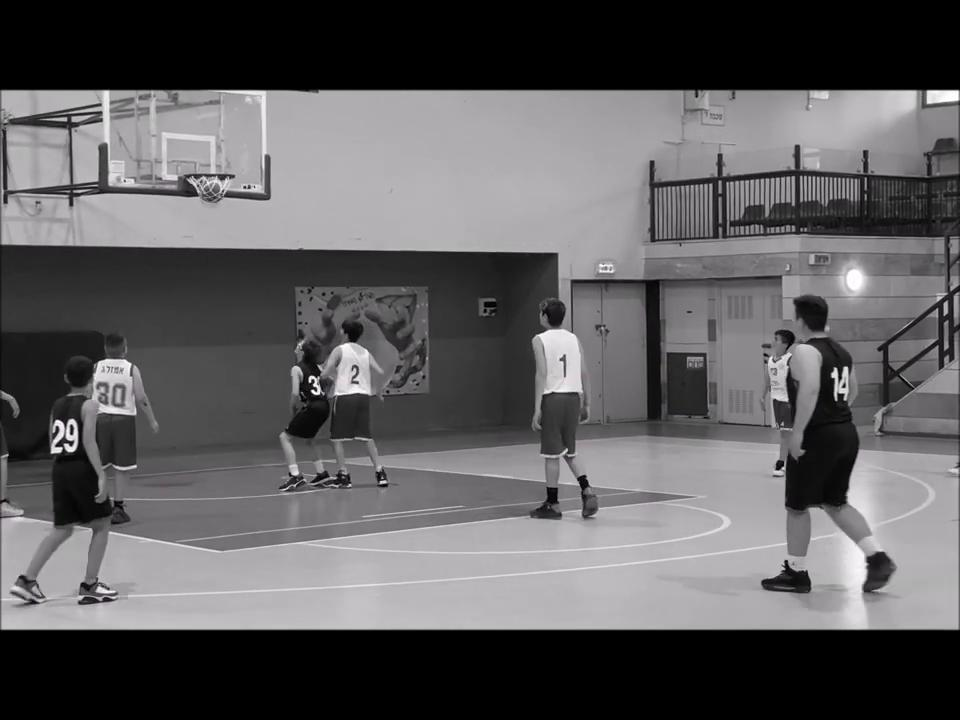ball: (201, 181, 225, 204)
human: (759, 292, 900, 597), (7, 354, 121, 607), (529, 294, 601, 523), (92, 331, 162, 527), (319, 316, 392, 490), (276, 334, 333, 492), (760, 328, 795, 478)
rim: (183, 172, 237, 210)
